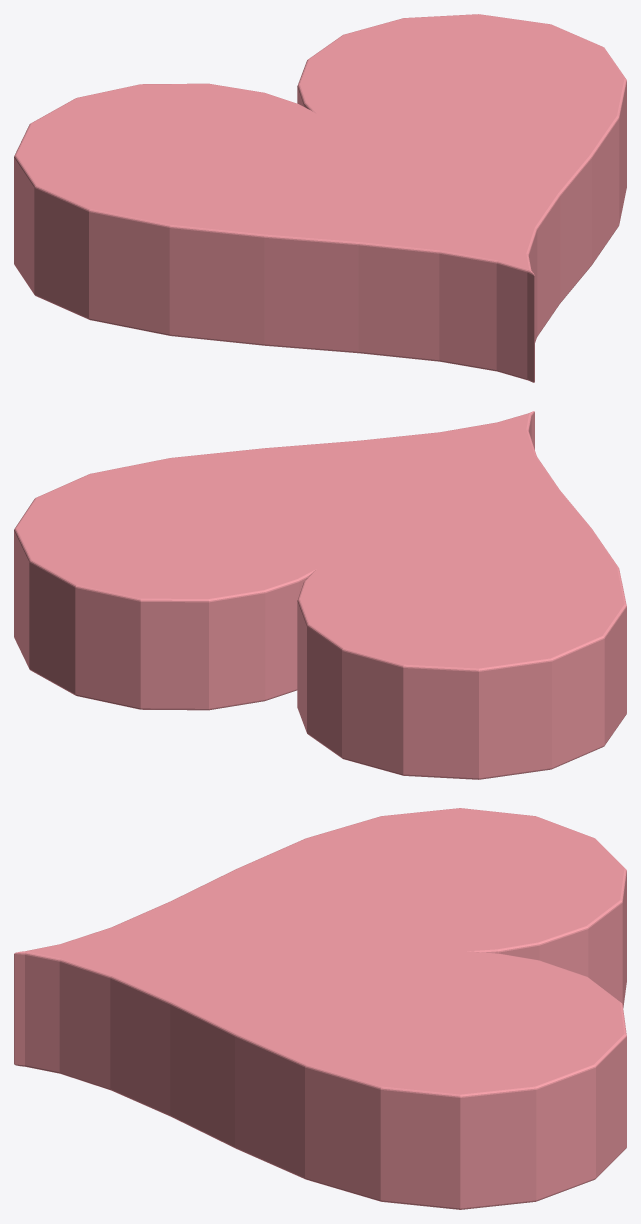
The model's file is SM_UI_Heart.fbx.
3 views of the same model, one above another, from view 1: azimuth 30°, elevation 25°; view 2: azimuth 150°, elevation 25°; view 3: azimuth 270°, elevation 25° (orthographic). The views are drawn at different scales.
Visible parts, largest first — view 1: SM_UI_Heart; view 2: SM_UI_Heart; view 3: SM_UI_Heart.
Part boxes in pixels (x1,y1,x2,y2): SM_UI_Heart: (14,14,626,382); SM_UI_Heart: (14,411,626,779); SM_UI_Heart: (14,808,626,1209).
Size of the model in its own units: 1.34 by 0.25 by 1.21.
